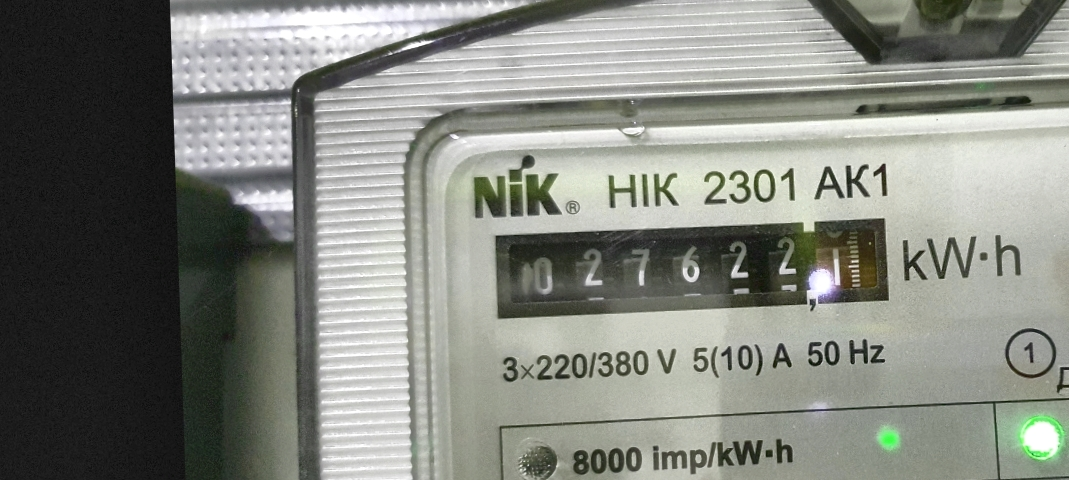0: (530, 253, 555, 296)
1: (827, 244, 844, 288)
2: (724, 238, 750, 280), (580, 246, 604, 289), (774, 234, 798, 276)
6: (678, 243, 701, 284)
7: (628, 246, 653, 289)
screen: (481, 207, 902, 325)
